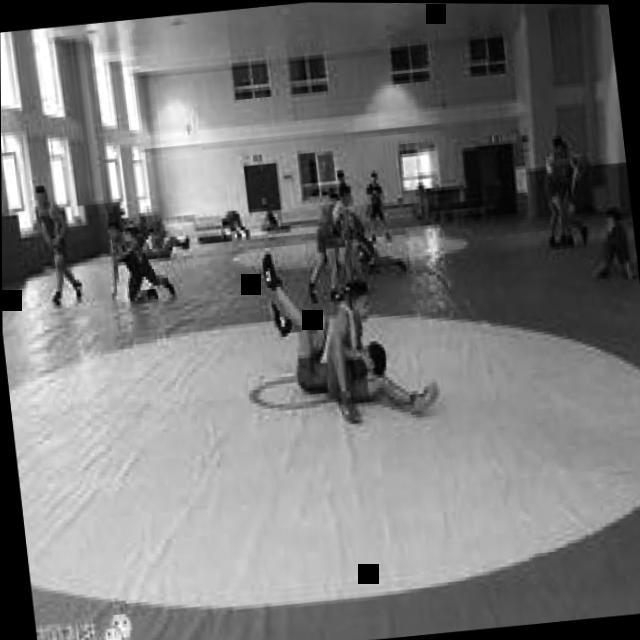Fall-Detected: (582, 187, 639, 286)
